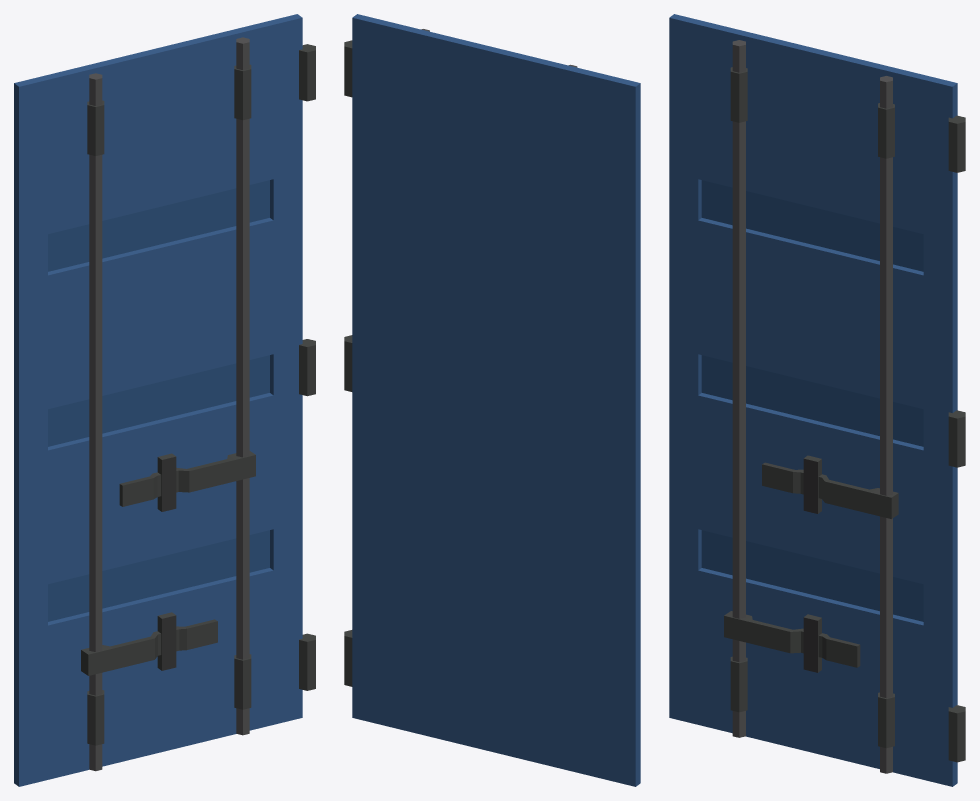
Rendered from SM_Props_ShippingContainer_Door3_R.glb.
3 renders of one model, left to right at view 1: azimuth 30°, elevation 25°; view 2: azimuth 150°, elevation 25°; view 3: azimuth 330°, elevation 25°, orthographic.
Parts seen in each view (by area): view 1: SM_Props_ShippingContainer_Door3_R; view 2: SM_Props_ShippingContainer_Door3_R; view 3: SM_Props_ShippingContainer_Door3_R.
Part boxes in pixels (x1,y1,x2,y2): SM_Props_ShippingContainer_Door3_R: (14,14,315,786); SM_Props_ShippingContainer_Door3_R: (344,14,640,786); SM_Props_ShippingContainer_Door3_R: (669,14,965,786).
Size of the model in its own units: 1.17 by 2.63 by 0.0859.
1 material, 1 textured.
